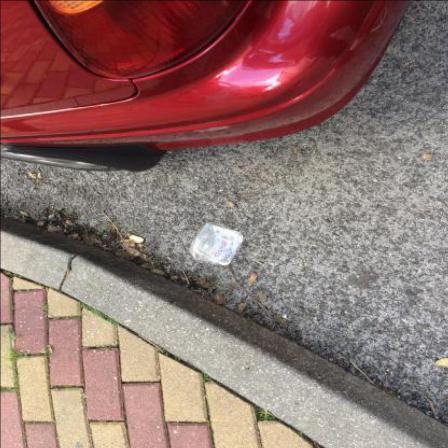Plastic container: (190, 224, 244, 266)
